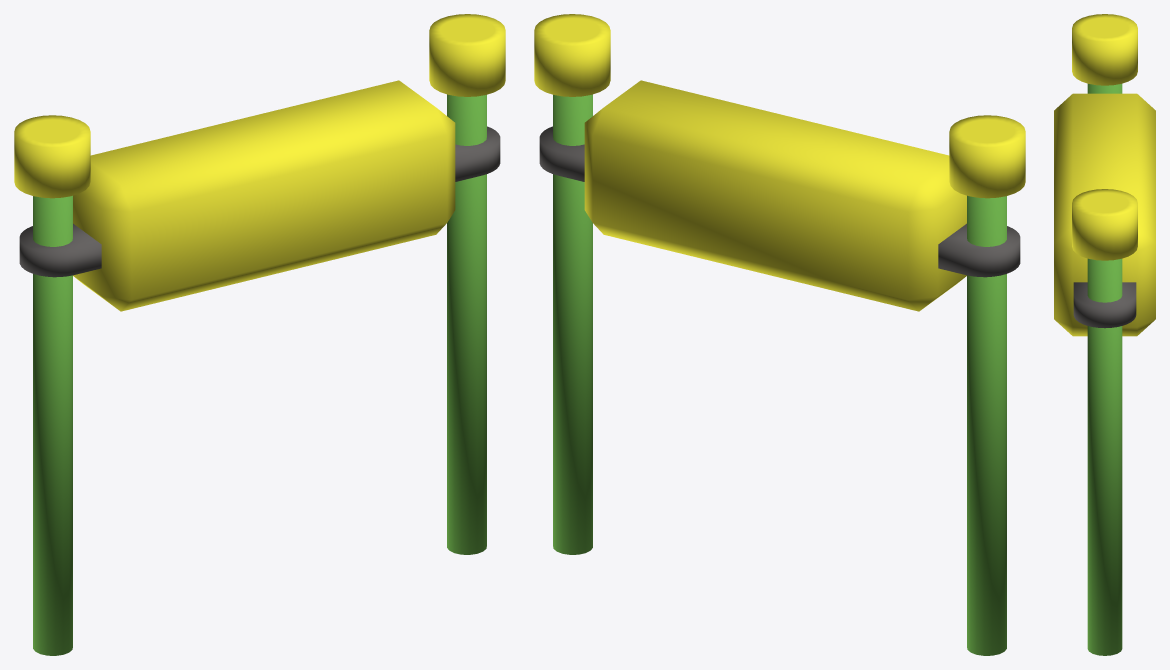
Rendered from Obstacle 25 V2.fbx.
3 views of the same model, side by side, from view 1: azimuth 30°, elevation 25°; view 2: azimuth 150°, elevation 25°; view 3: azimuth 270°, elevation 25° (orthographic). The views are drawn at different scales.
Parts seen in each view (by area): view 1: O25 Part 1, O25 Part 2; view 2: O25 Part 1, O25 Part 2; view 3: O25 Part 2, O25 Part 1.
Boxes of the visible parts, x1,y1,x2,y2 form: O25 Part 1: (19,80,500,311); O25 Part 2: (14,14,505,655); O25 Part 1: (539,80,1020,311); O25 Part 2: (534,14,1025,655); O25 Part 2: (1072,14,1137,655); O25 Part 1: (1054,93,1155,336).
Size of the model in its own units: 294 by 302 by 62.5.
Materials: 1 (1 with a texture image).
